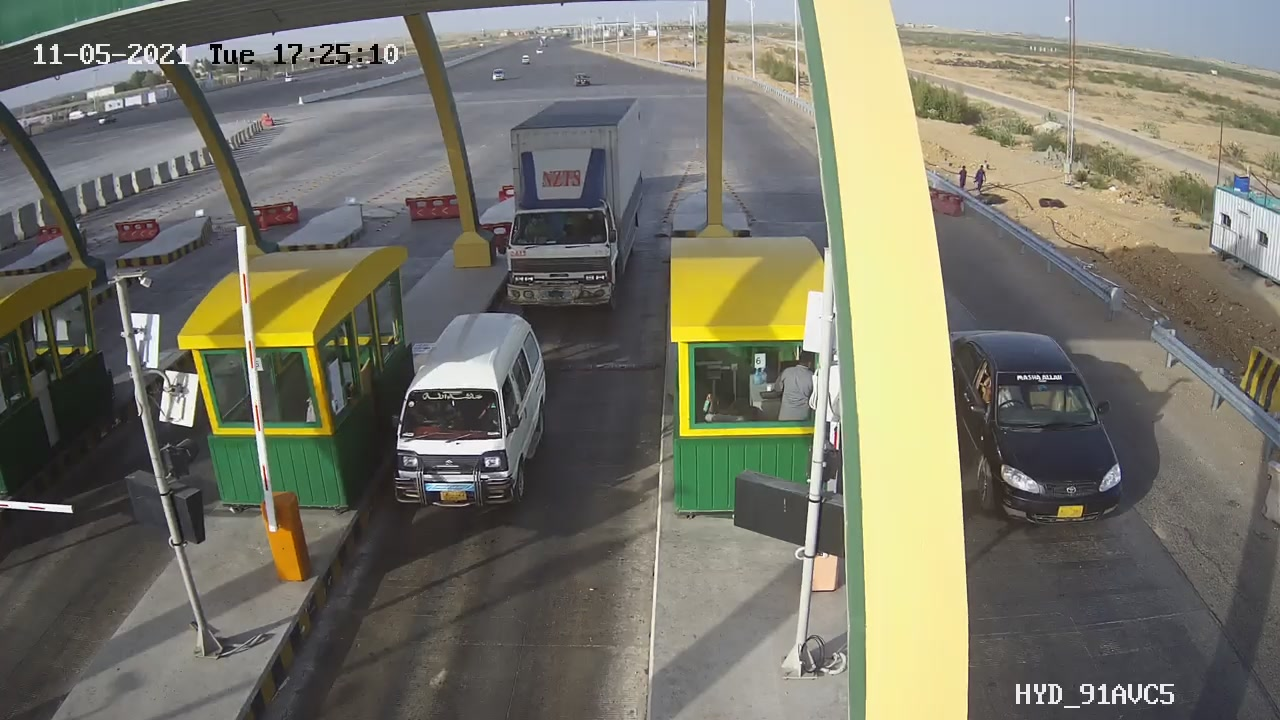F1: (373, 295, 568, 530)
F5: (489, 92, 652, 324)
